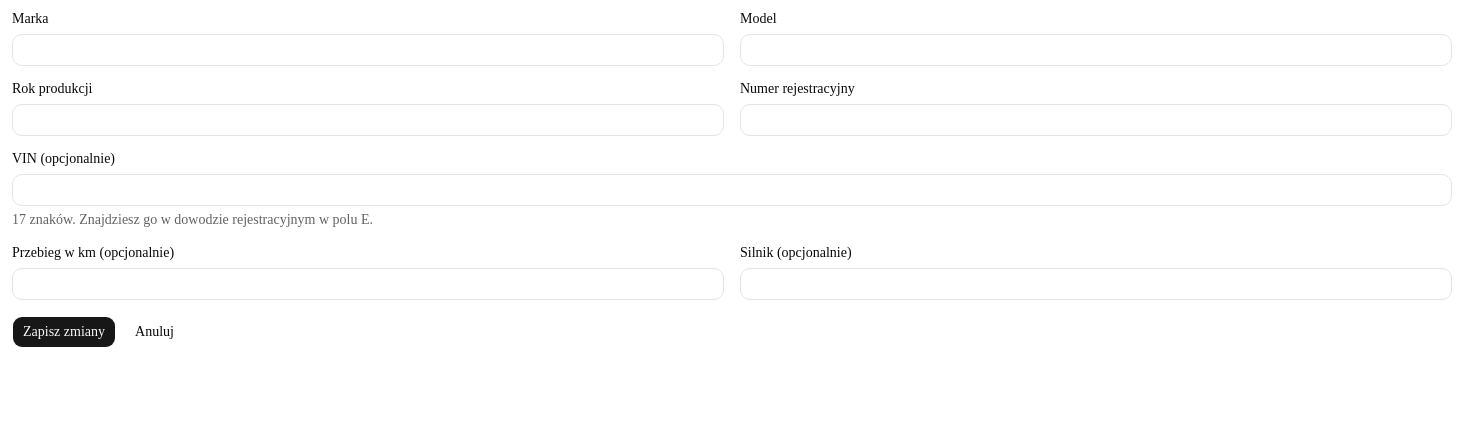
Test: VehicleForm › shows Polish validation errors and does not submit invalid data
The width and height of the screenshot is (1464, 448).
Type "123" into the field labelled "VIN (opcjonalnie)" at (732, 190), box [12,174,1452,206]
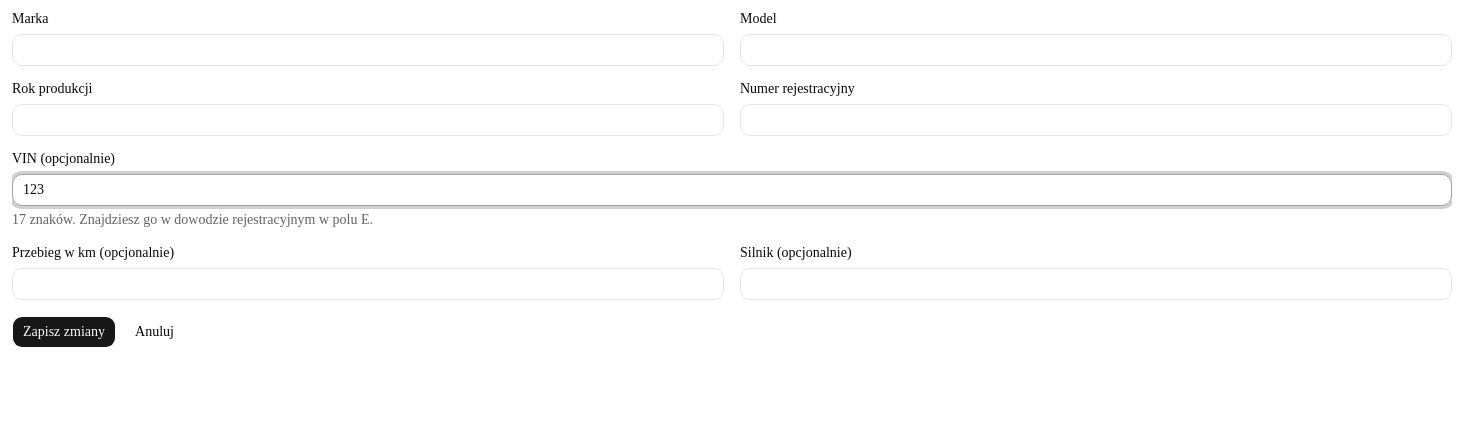
Click the button "Zapisz zmiany" at (64, 332), box [12,316,116,348]
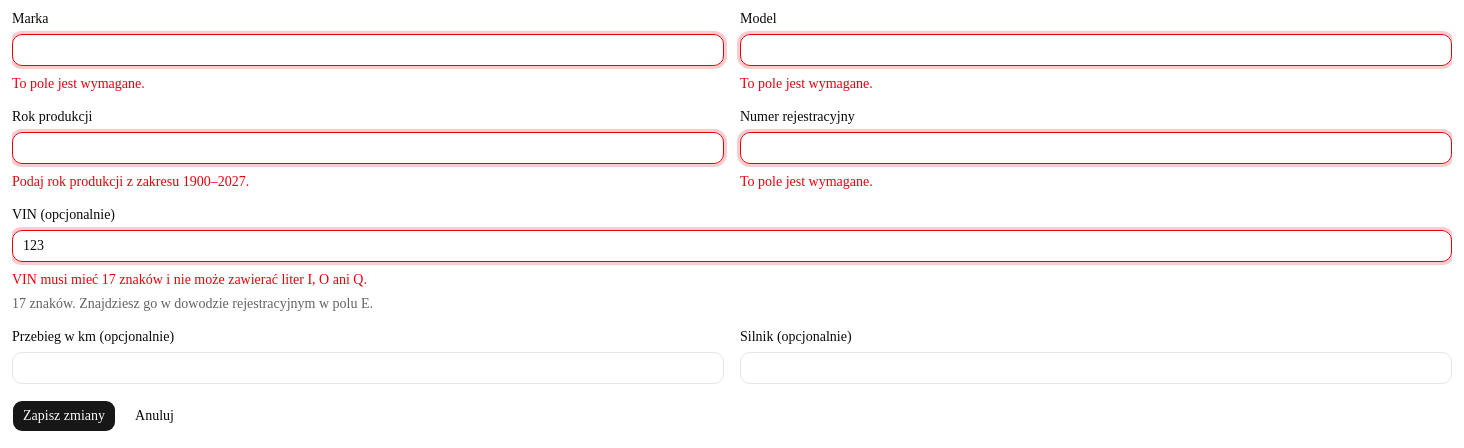
Now the text "VIN musi mieć 17 znaków i nie może zawierać liter I, O ani Q." is shown, box [12,272,367,287]
